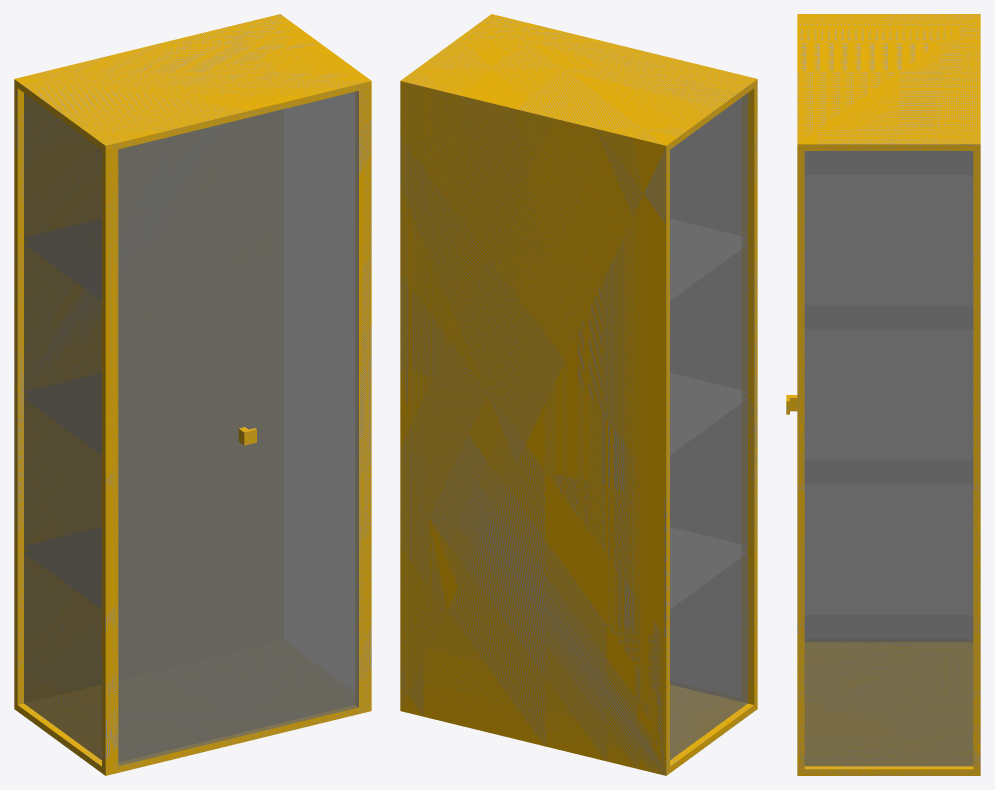
Rendered from Vitrina.dae.
3 views of the same model, side by side, from view 1: azimuth 30°, elevation 25°; view 2: azimuth 150°, elevation 25°; view 3: azimuth 270°, elevation 25° (orthographic).
Visible parts, largest first — view 1: SketchUp (×4); view 2: SketchUp (×3); view 3: SketchUp (×3).
Part boxes in pixels (<box>): SketchUp (×4): <box>14,14,371,775</box>; SketchUp (×3): <box>400,14,757,775</box>; SketchUp (×3): <box>797,14,980,775</box>.
Bounding box in the file's own units: 33.07 × 20.87 × 74.9.
